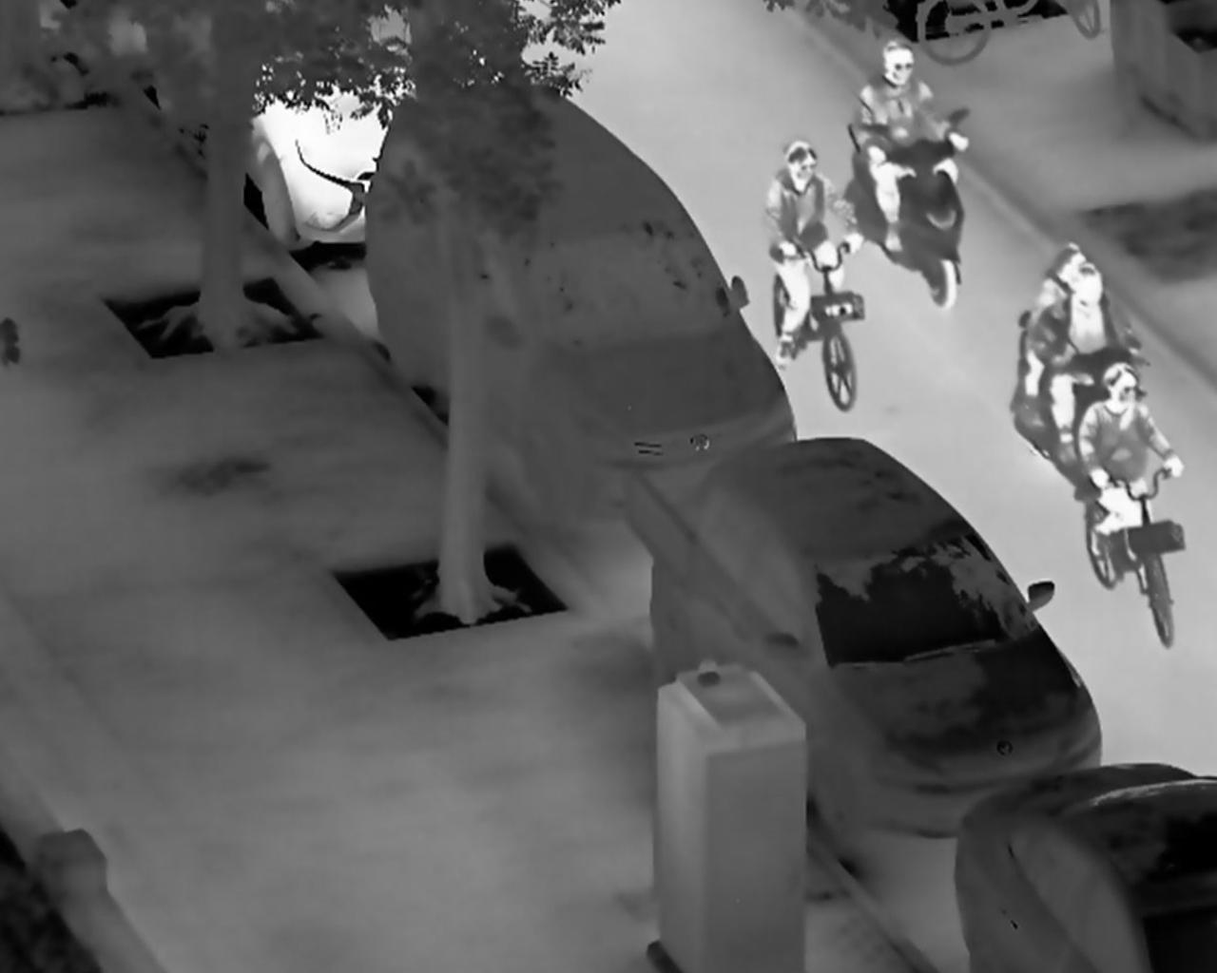person: (855, 37, 972, 256), (764, 138, 863, 370), (1078, 359, 1186, 566), (1031, 262, 1140, 466)
